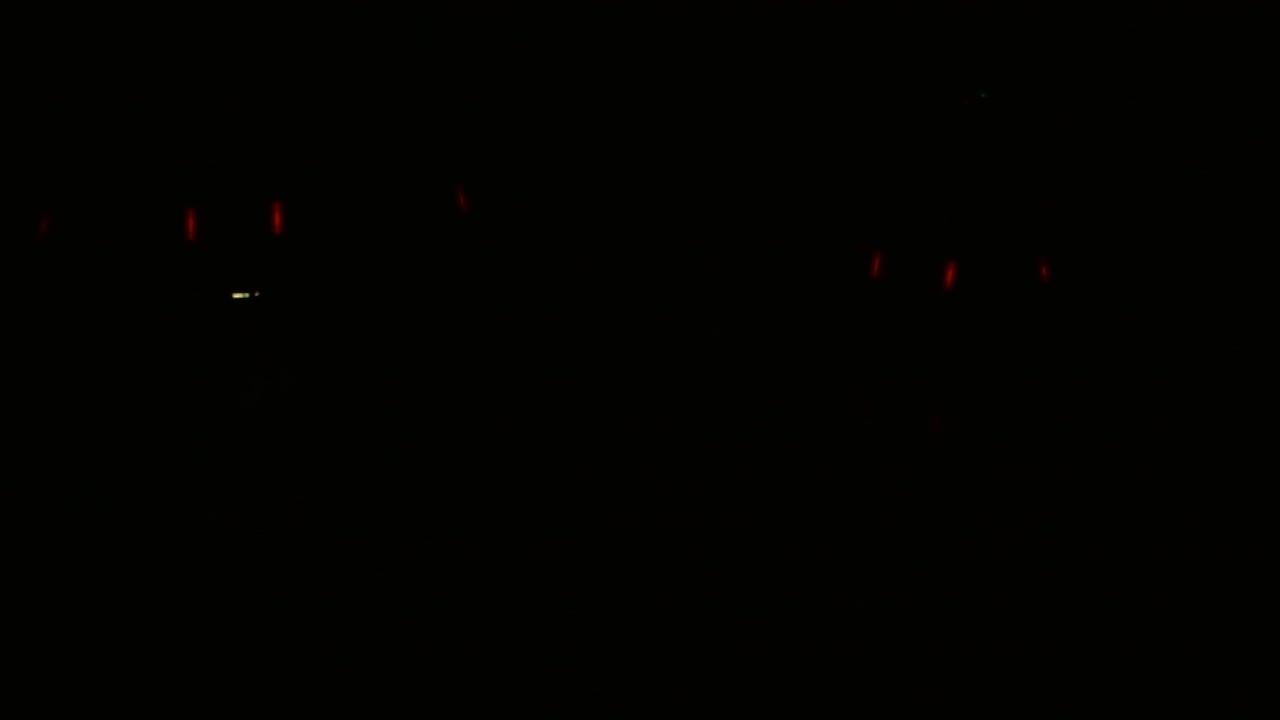pair1: (176, 200, 288, 244), (870, 248, 957, 296)
